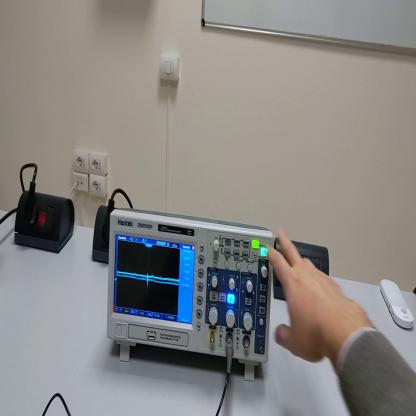hand: (266, 229, 359, 366)
oscilloscope: (106, 208, 274, 381)
socket: (16, 193, 76, 259), (92, 206, 113, 262)
